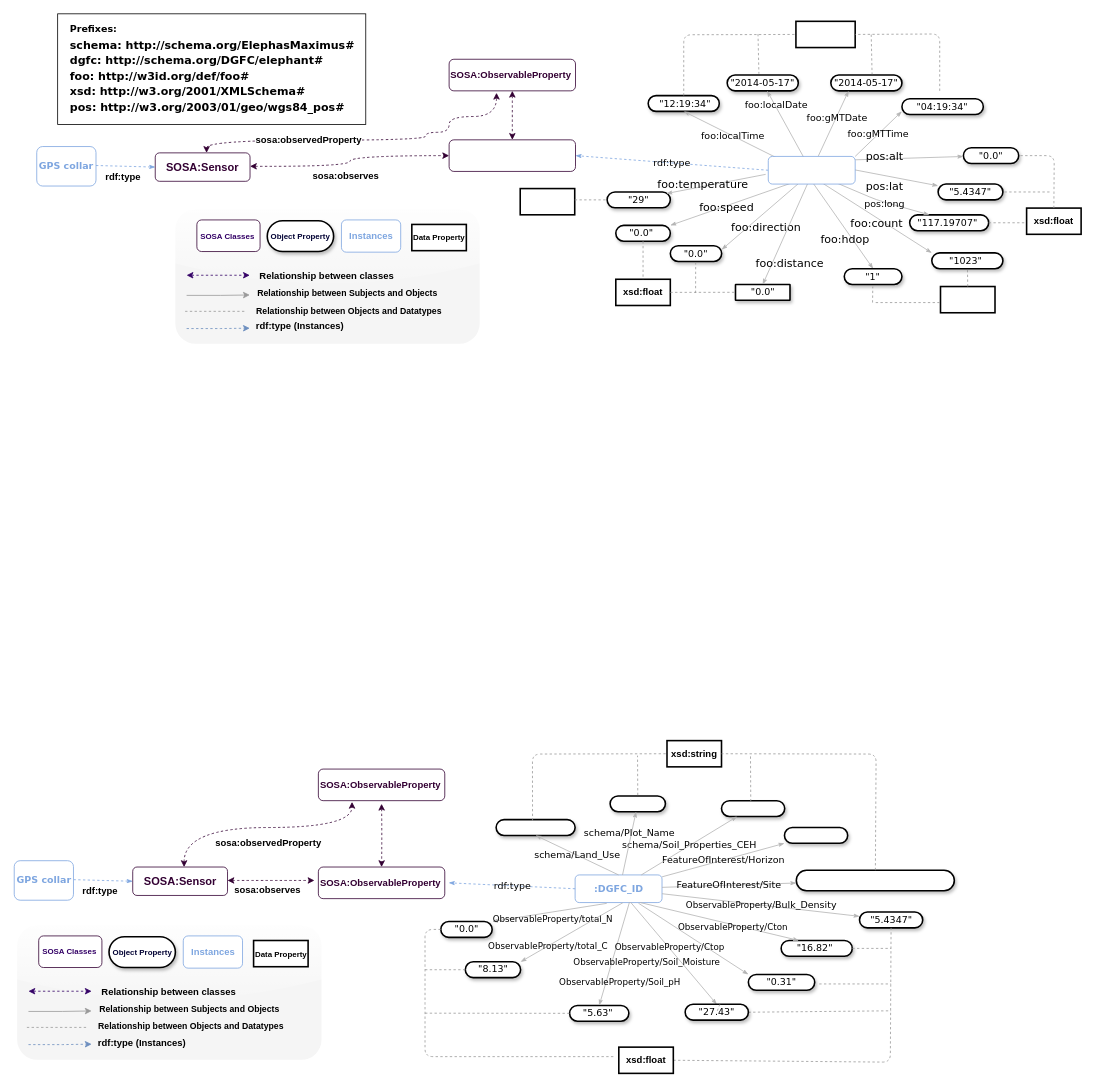
This 1095x1088 diagram has some shape labels left out. Each missing label, with the centre of its shape:
"Danum Valley Conservation Area": (875,881)
"DV1": (638,805)
"DV1221": (753,809)
"Organic": (816,836)
"Unlogged Forest": (536,828)
:foo_100SAT32: (811,170)
SOSA:Observation: (512,155)
xsd:datetime: (825,34)
xsd:double: (547,201)
xsd:integer: (967,299)
